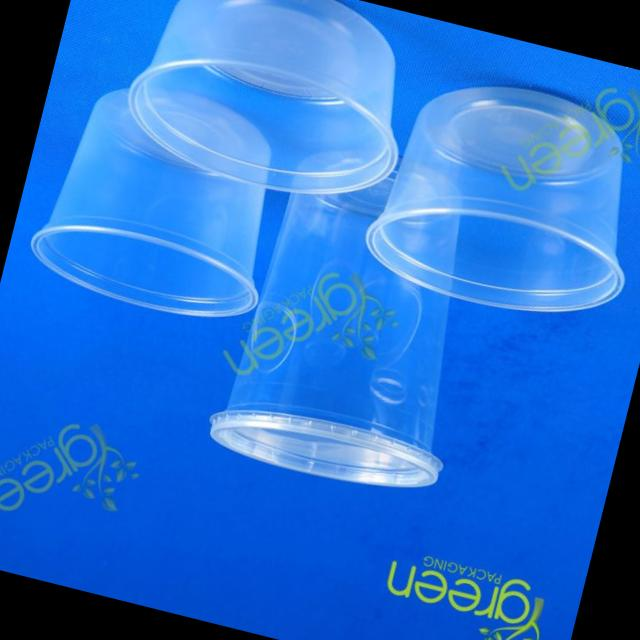GelasPlastik: (200, 134, 512, 506)
